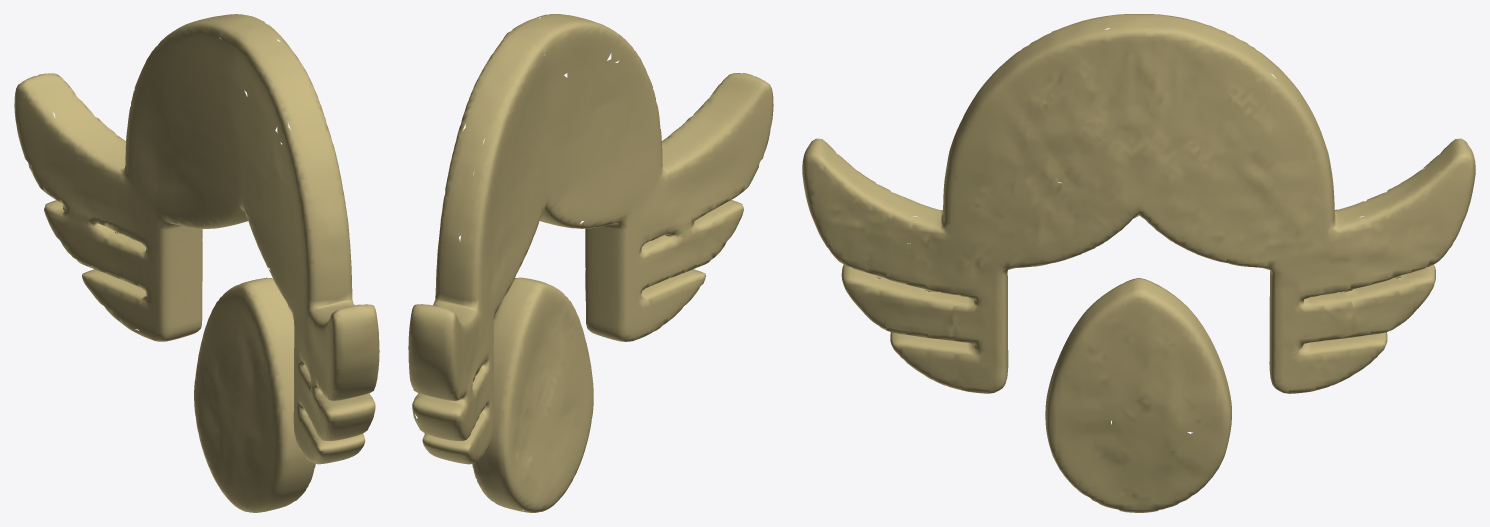
File: pillar-03-protection-lite.glb
3 views of the same model, side by side, from view 1: azimuth 30°, elevation 25°; view 2: azimuth 150°, elevation 25°; view 3: azimuth 270°, elevation 25° (orthographic). The views are drawn at different scales.
Visible parts, largest first — view 1: tripo_node_da4a04f7-1c1f-4e5f-86a0-673e0b5de261; view 2: tripo_node_da4a04f7-1c1f-4e5f-86a0-673e0b5de261; view 3: tripo_node_da4a04f7-1c1f-4e5f-86a0-673e0b5de261.
Part boxes in pixels (<box>): tripo_node_da4a04f7-1c1f-4e5f-86a0-673e0b5de261: <box>14,14,379,512</box>; tripo_node_da4a04f7-1c1f-4e5f-86a0-673e0b5de261: <box>408,14,773,512</box>; tripo_node_da4a04f7-1c1f-4e5f-86a0-673e0b5de261: <box>802,14,1475,512</box>.
Size of the model in its own units: 0.1866 by 0.7814 by 0.98.
